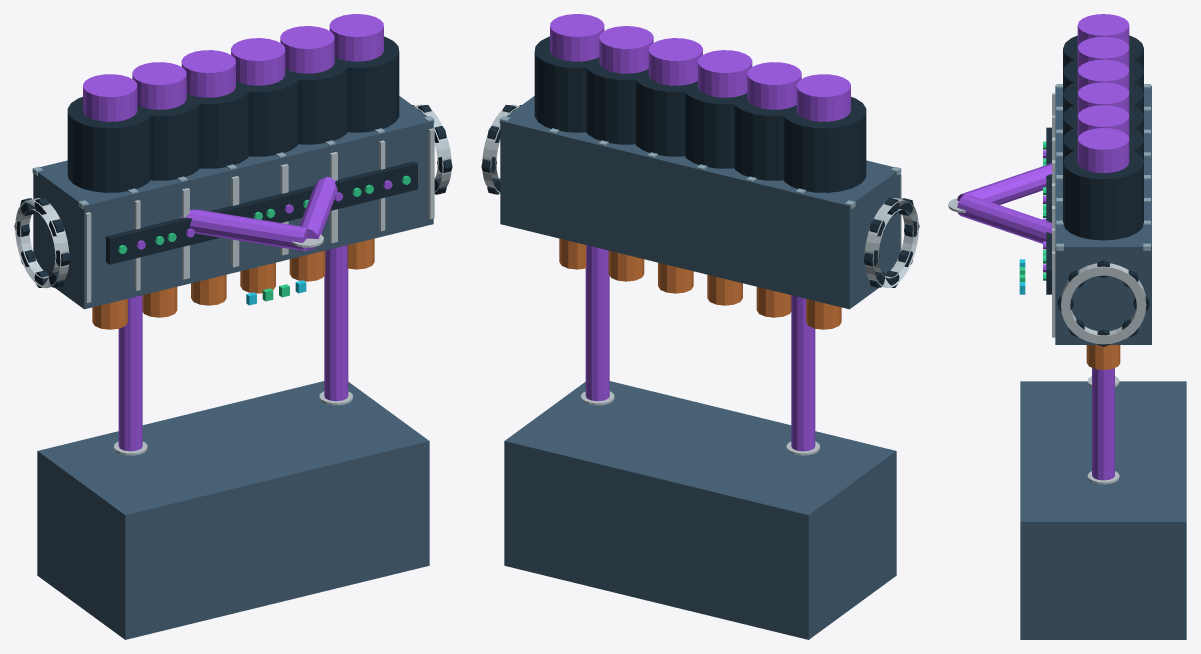
File: 22_L78_CapPrecursorDeliveryManifold.fbx
The picture shows the model from 3 angles, left to right: view 1: azimuth 30°, elevation 25°; view 2: azimuth 150°, elevation 25°; view 3: azimuth 270°, elevation 25°; orthographic projection. The views are drawn at different scales.
Parts seen in each view (by area): view 1: CapPrecursorDeliveryManifold; view 2: CapPrecursorDeliveryManifold; view 3: CapPrecursorDeliveryManifold.
Part boxes in pixels (x1,y1,x2,y2): CapPrecursorDeliveryManifold: (14,14,452,639); CapPrecursorDeliveryManifold: (481,14,919,639); CapPrecursorDeliveryManifold: (948,14,1186,639).
Bounding box in the file's own units: 190 × 240 × 106.
